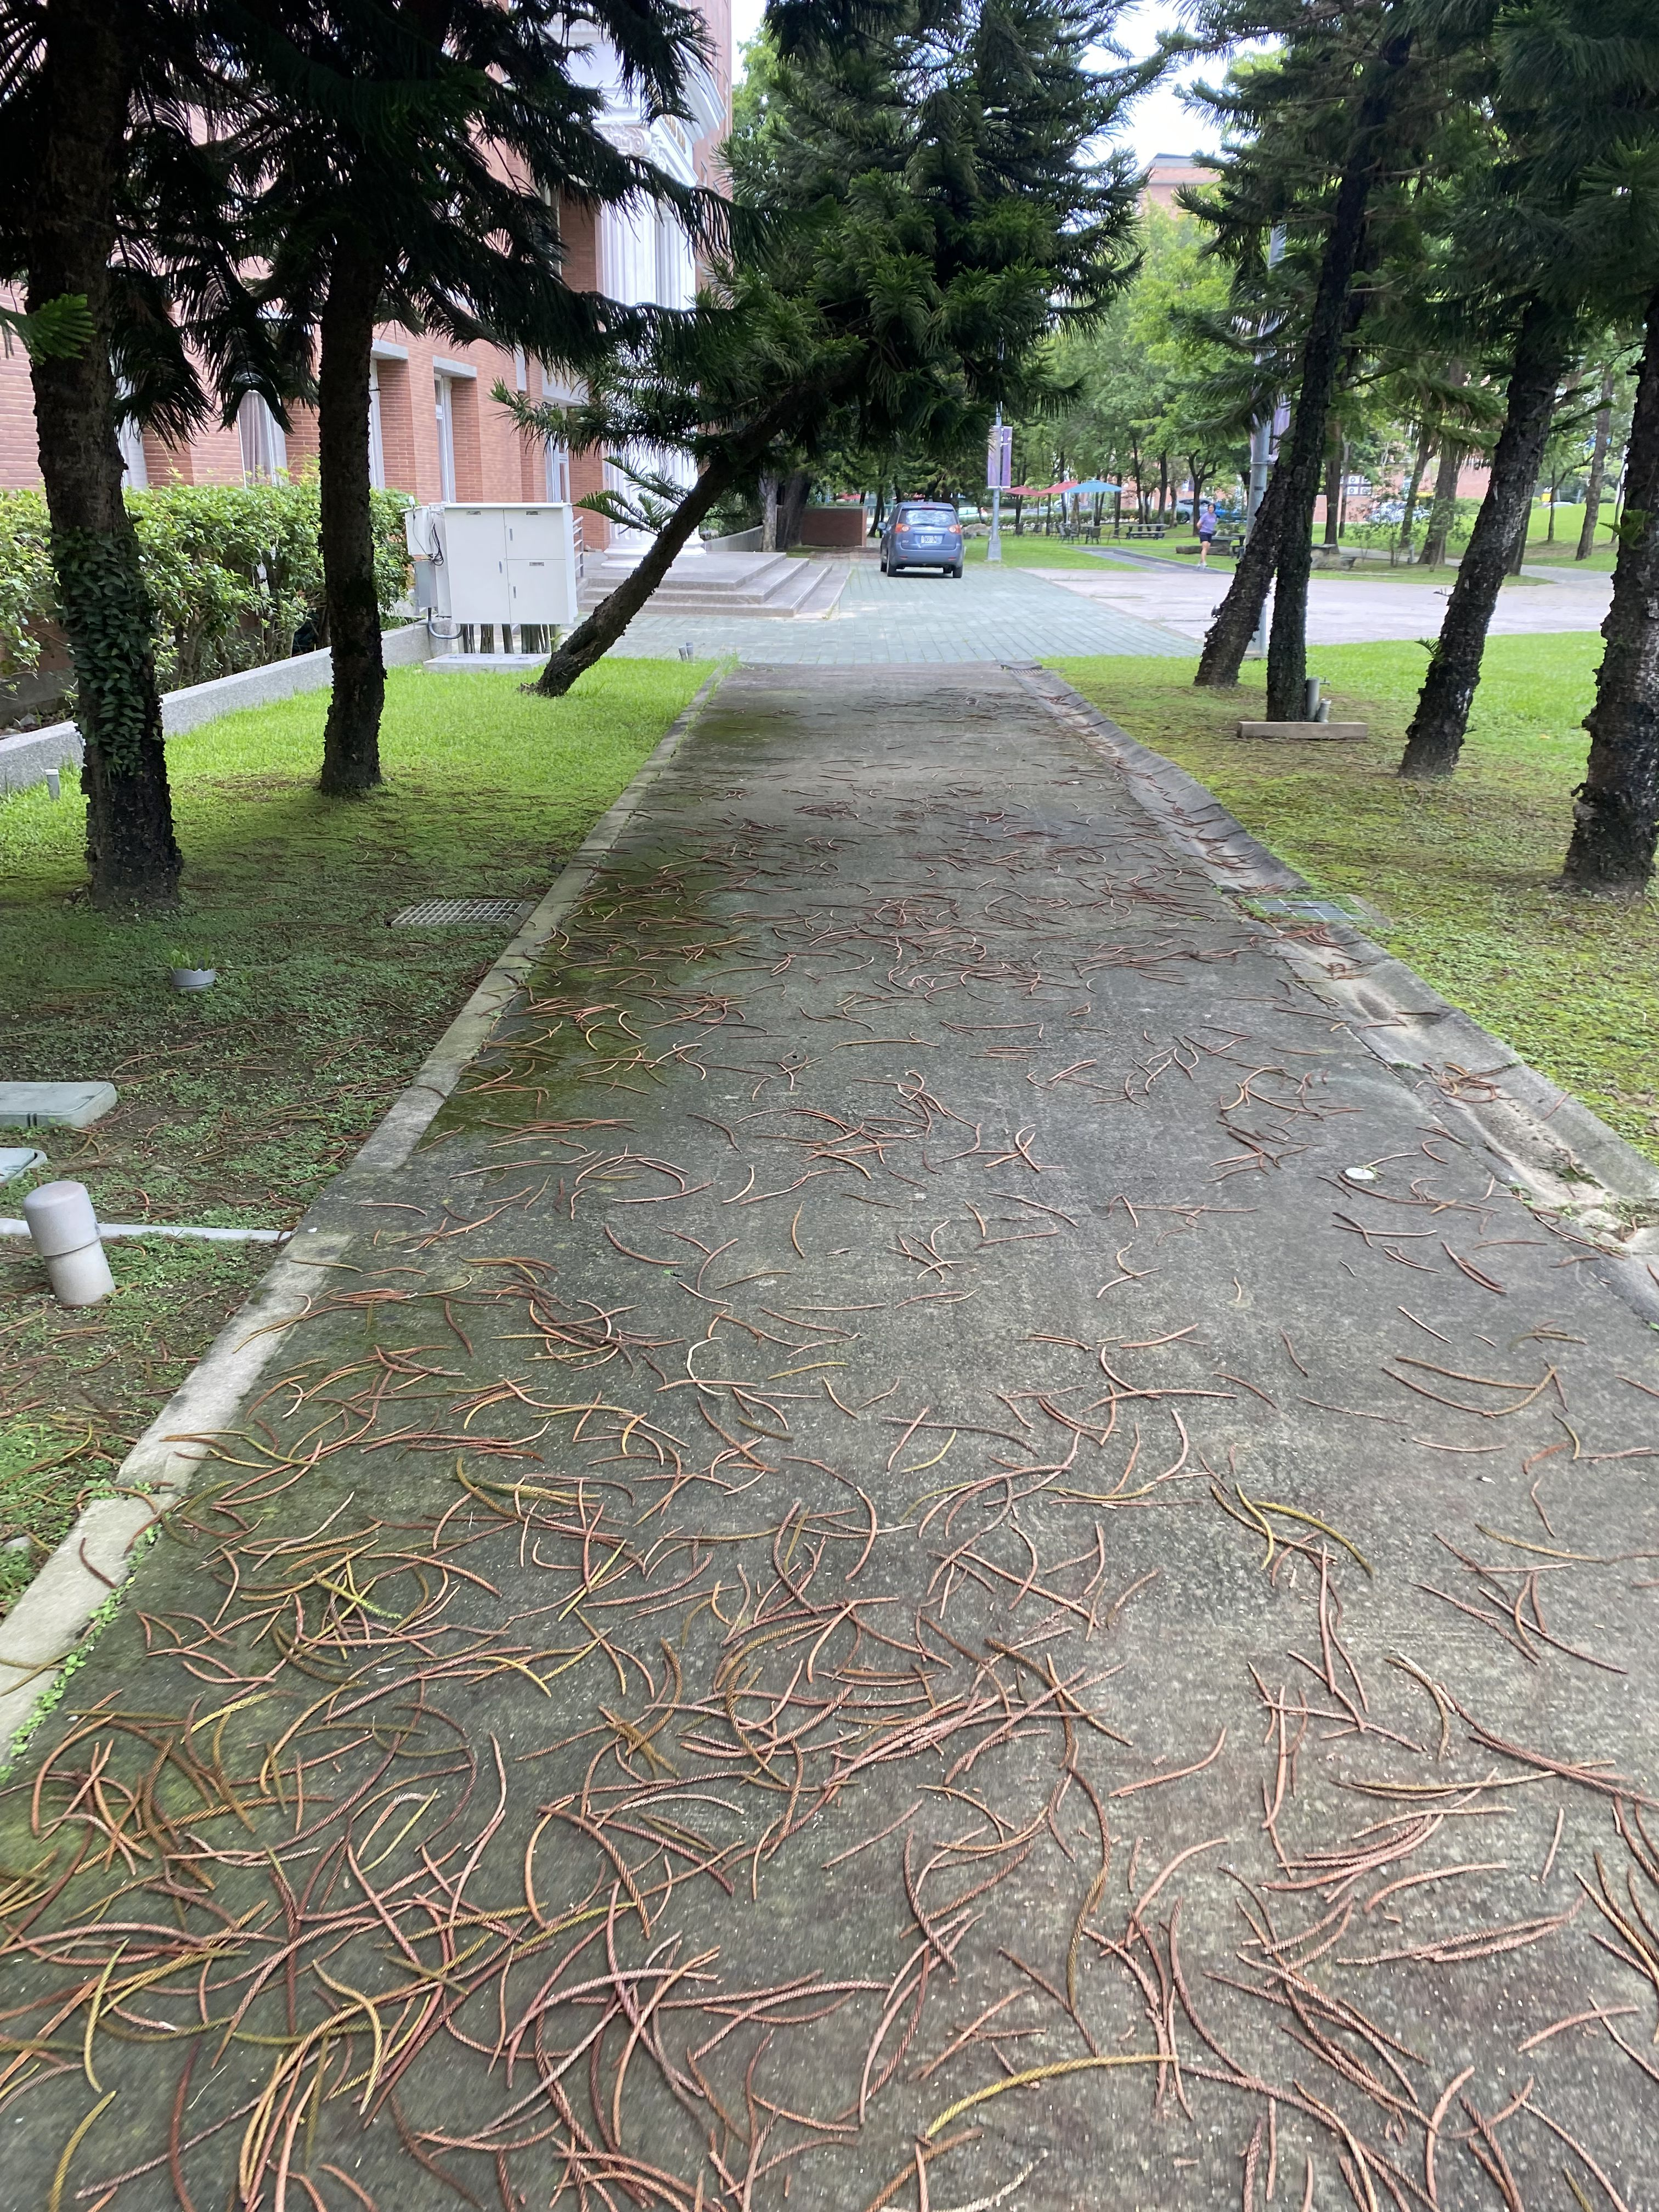sidewalk: (19, 637, 1659, 2212)
